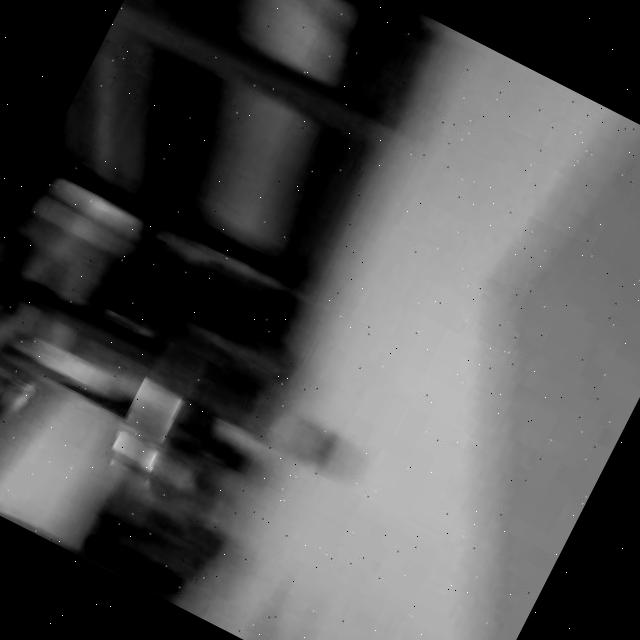ping-pong-ball: (248, 394, 342, 476)
